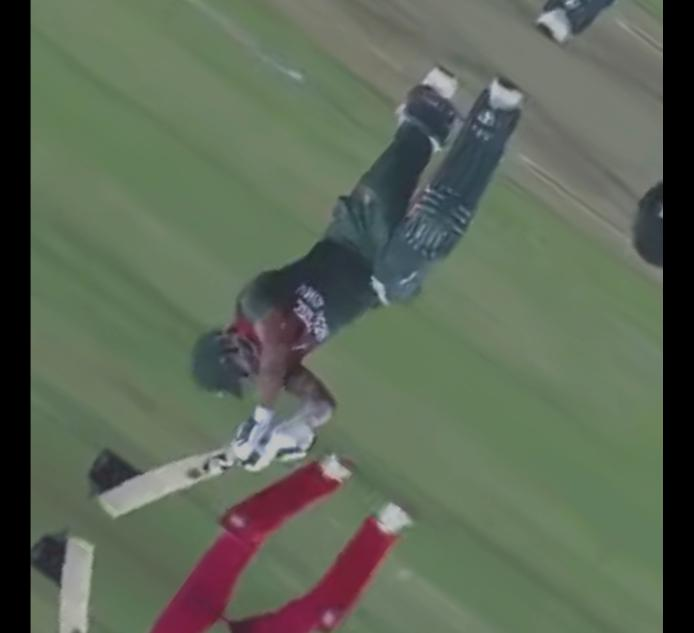batsman: (82, 40, 530, 544)
